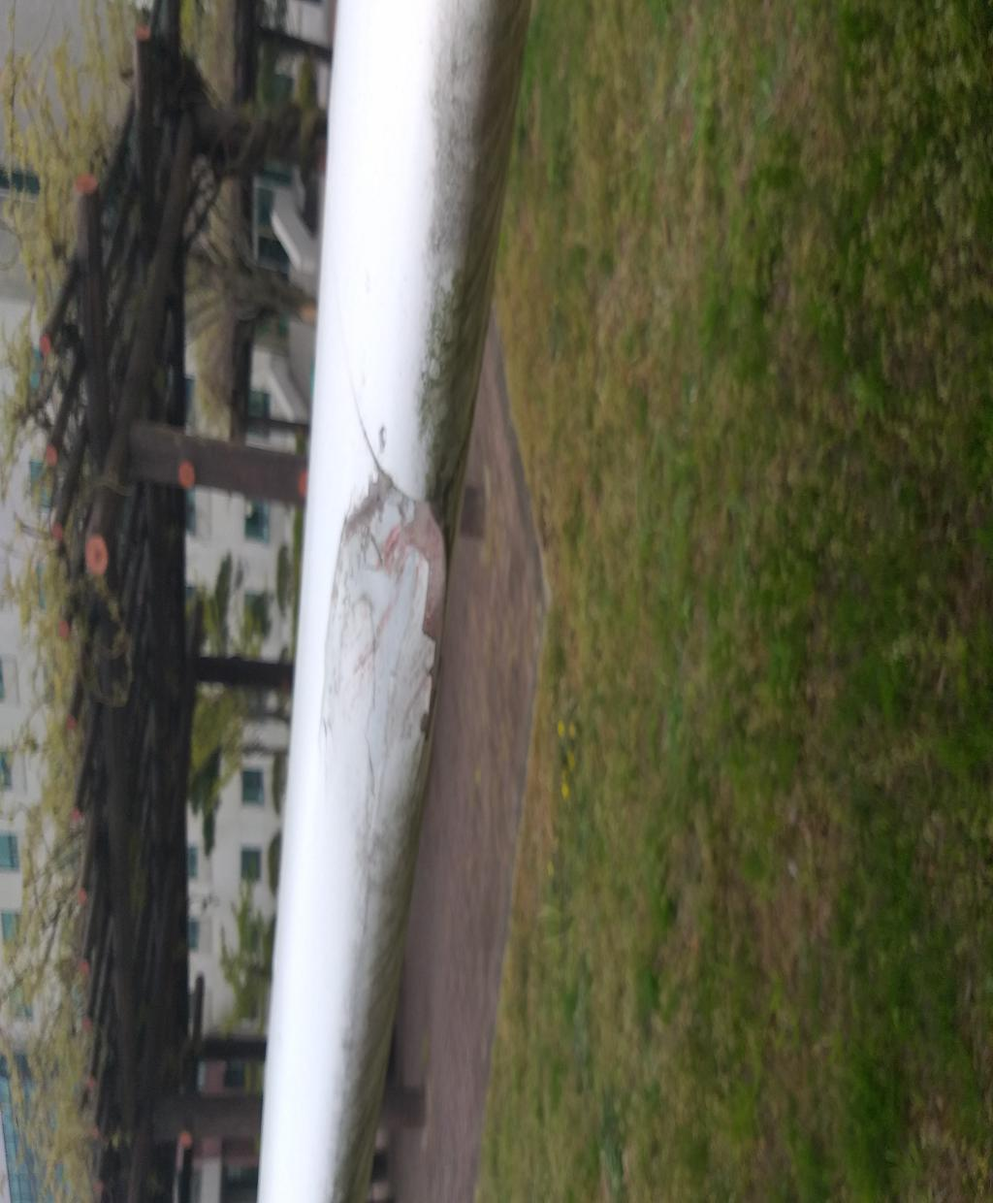corrosion: (165, 679, 345, 975)
